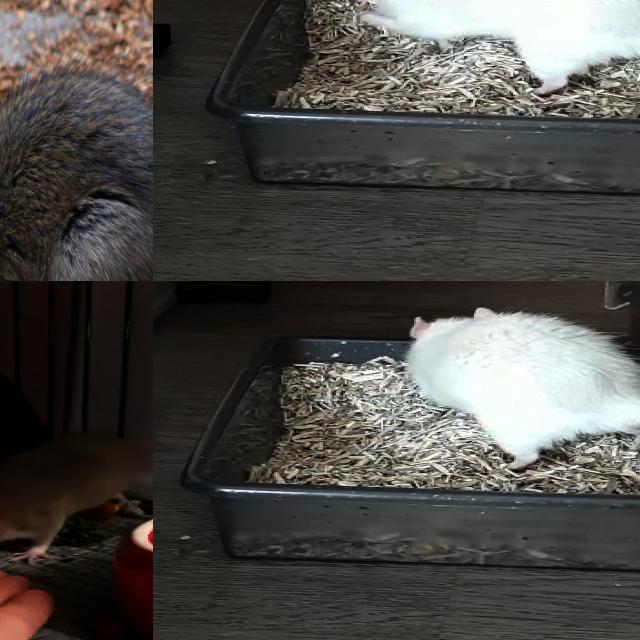rat: (404, 308, 640, 464), (0, 66, 153, 281), (364, 0, 640, 93), (0, 432, 142, 576)
